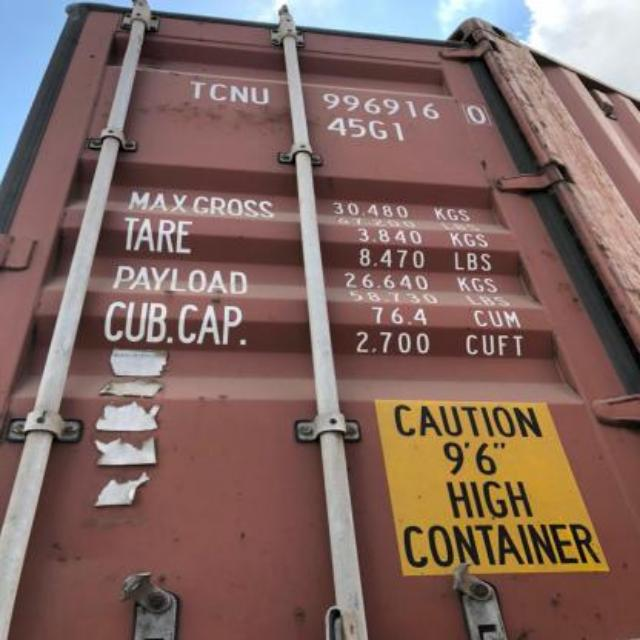0: (462, 96, 486, 130)
1: (402, 95, 422, 122)
6: (358, 86, 380, 118), (420, 94, 440, 124)
9: (339, 86, 357, 115), (381, 93, 401, 117), (319, 88, 337, 110)
C: (207, 70, 227, 104)
N: (226, 81, 248, 107)
T: (188, 76, 206, 100)
U: (248, 80, 270, 110)
